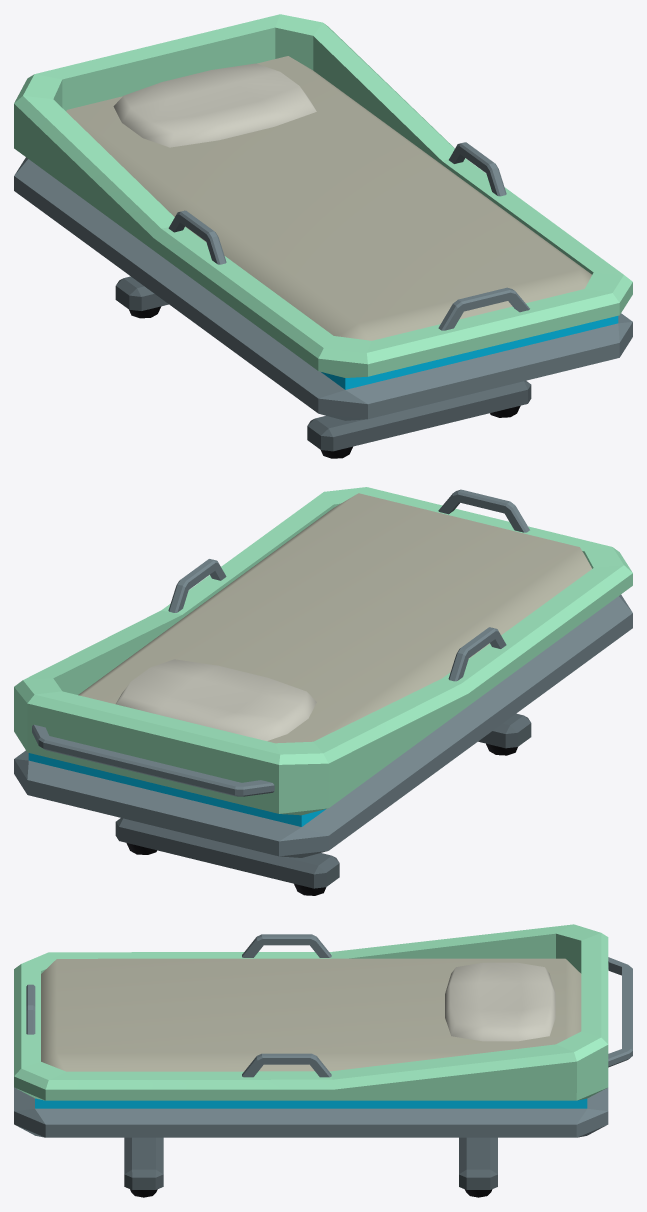
The model's file is Medical Bed 01.fbx.
3 renders of one model, top to bottom at view 1: azimuth 30°, elevation 25°; view 2: azimuth 150°, elevation 25°; view 3: azimuth 270°, elevation 25°, orthographic. The views are drawn at different scales.
Visible parts, largest first — view 1: Medical_Bed_01; view 2: Medical_Bed_01; view 3: Medical_Bed_01.
Boxes of the visible parts, x1,y1,x2,y2 form: Medical_Bed_01: (14, 14, 632, 458); Medical_Bed_01: (14, 487, 632, 895); Medical_Bed_01: (14, 924, 632, 1197).
Size of the model in its own units: 143 by 87.8 by 279.
